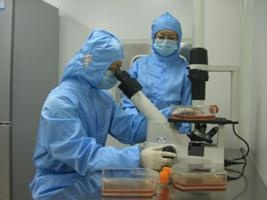person without safety: (32, 29, 127, 167), (131, 11, 192, 84)
